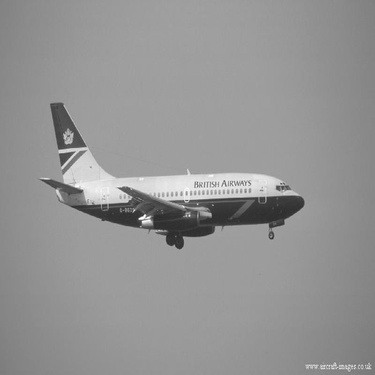airplane: (41, 94, 313, 255)
